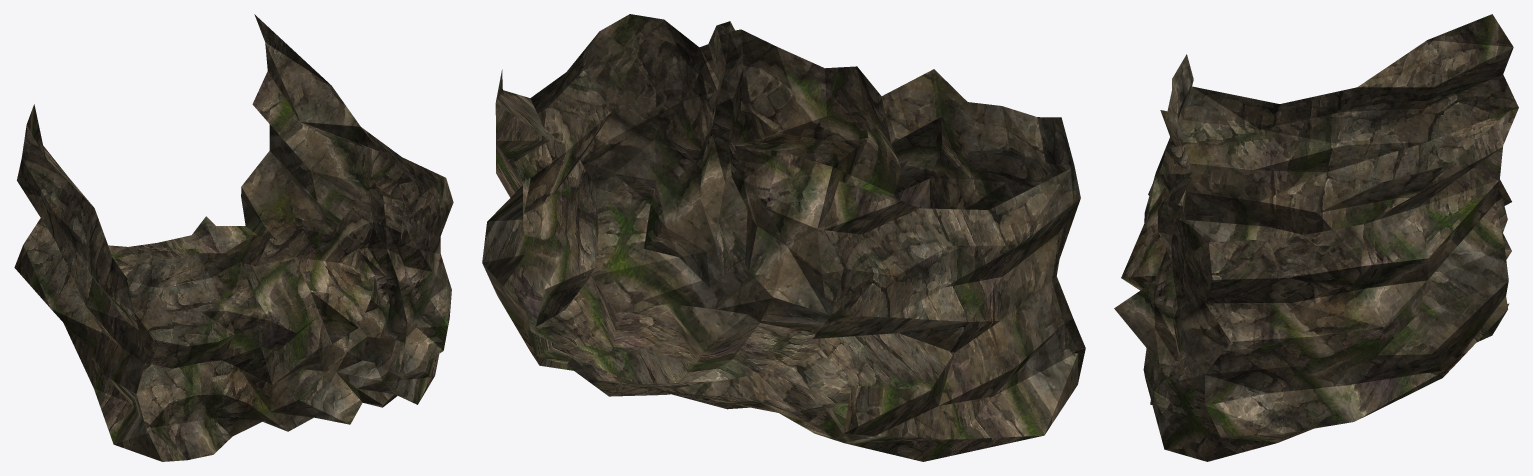
Rendered from huodong_zhanchang_01_baobian_01.obj.
3 renders of one model, left to right at view 1: azimuth 30°, elevation 25°; view 2: azimuth 150°, elevation 25°; view 3: azimuth 270°, elevation 25°, orthographic. The views are drawn at different scales.
Parts seen in each view (by area): view 1: huodong_zhanchang_01_baobian_01; view 2: huodong_zhanchang_01_baobian_01; view 3: huodong_zhanchang_01_baobian_01.
Part boxes in pixels (bbox=[...]): huodong_zhanchang_01_baobian_01: bbox=[14, 14, 453, 461]; huodong_zhanchang_01_baobian_01: bbox=[482, 14, 1085, 461]; huodong_zhanchang_01_baobian_01: bbox=[1114, 14, 1518, 461].
Bounding box in the file's own units: 1633 × 1373 × 1475.
Materials: 1 (1 with a texture image).
